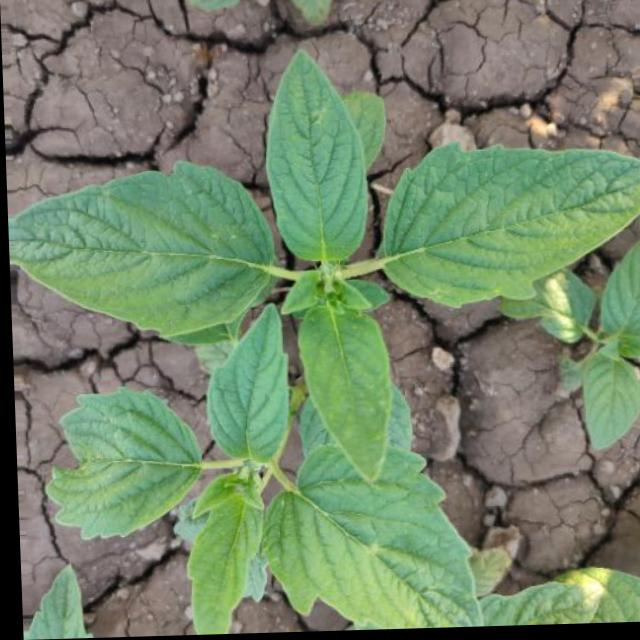crop: (8, 43, 640, 477), (39, 294, 528, 639)
